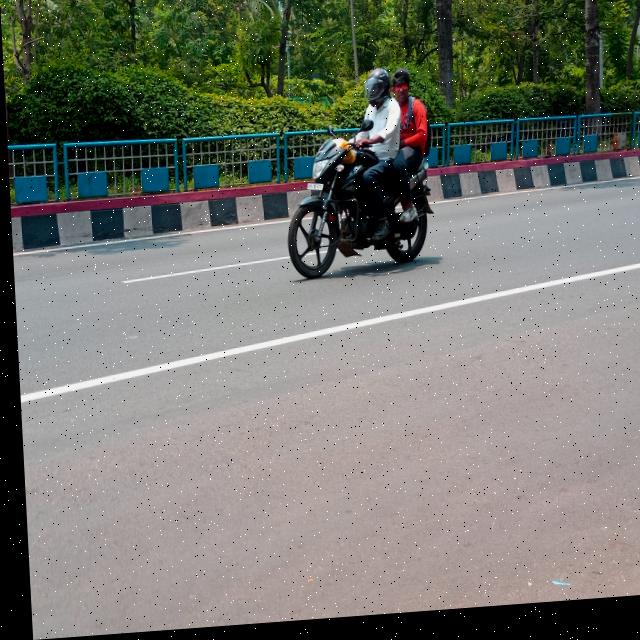bike: (270, 134, 438, 298)
